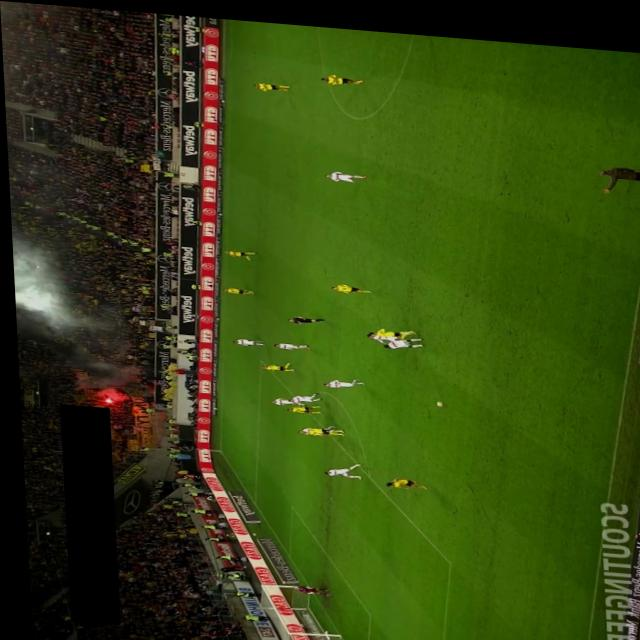goalkeeper: (287, 579, 325, 591)
player: (317, 455, 359, 474), (378, 327, 421, 344), (363, 323, 407, 338), (367, 319, 415, 332), (319, 67, 363, 81), (318, 370, 361, 384), (293, 420, 341, 432), (322, 164, 365, 177), (381, 470, 423, 483), (328, 276, 369, 289), (284, 385, 319, 400), (281, 397, 319, 409), (252, 76, 290, 88), (220, 245, 255, 257), (257, 355, 291, 367), (270, 337, 307, 345), (229, 333, 261, 342), (265, 392, 296, 401), (220, 282, 252, 290)
referee: (284, 309, 322, 320)
